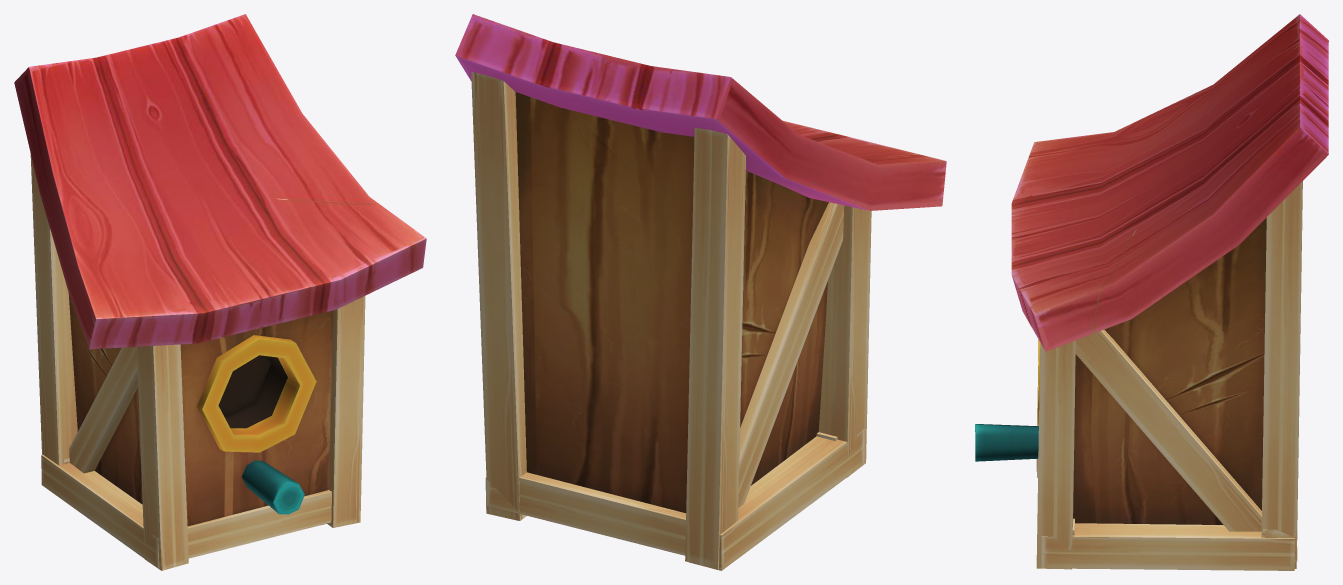
File: SE_Birdhouse_01_SM.FBX
The picture shows the model from 3 angles, left to right: view 1: azimuth 30°, elevation 25°; view 2: azimuth 150°, elevation 25°; view 3: azimuth 270°, elevation 25°; orthographic projection. The views are drawn at different scales.
Visible parts, largest first — view 1: SE_Birdhouse_01_SM_LOD0; view 2: SE_Birdhouse_01_SM_LOD0; view 3: SE_Birdhouse_01_SM_LOD0.
Boxes of the visible parts, left/top/right/bottom form: SE_Birdhouse_01_SM_LOD0: left=14, top=14, right=426, bottom=570; SE_Birdhouse_01_SM_LOD0: left=455, top=14, right=946, bottom=570; SE_Birdhouse_01_SM_LOD0: left=975, top=14, right=1328, bottom=570.
Size of what is drawn, in the model's own units: 309 by 264 by 370.
